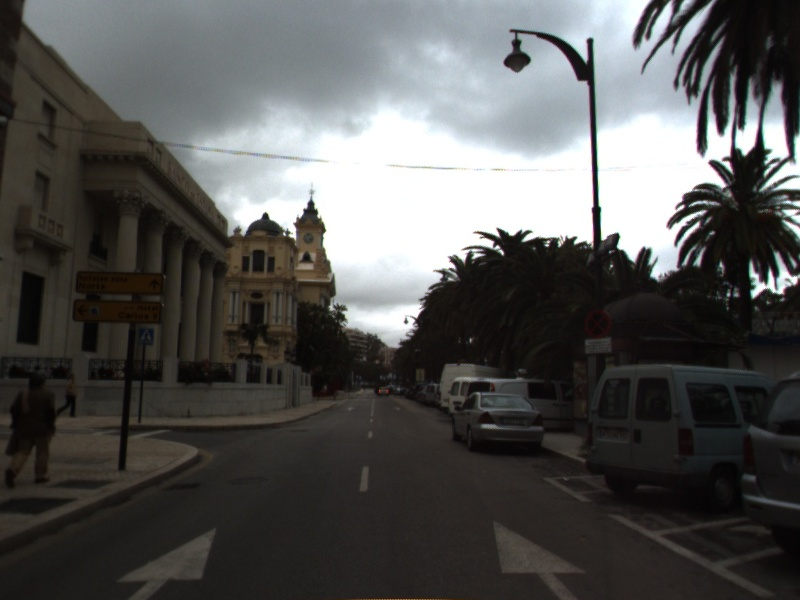STRAIGHT: (491, 517, 593, 600), (114, 525, 218, 600)
